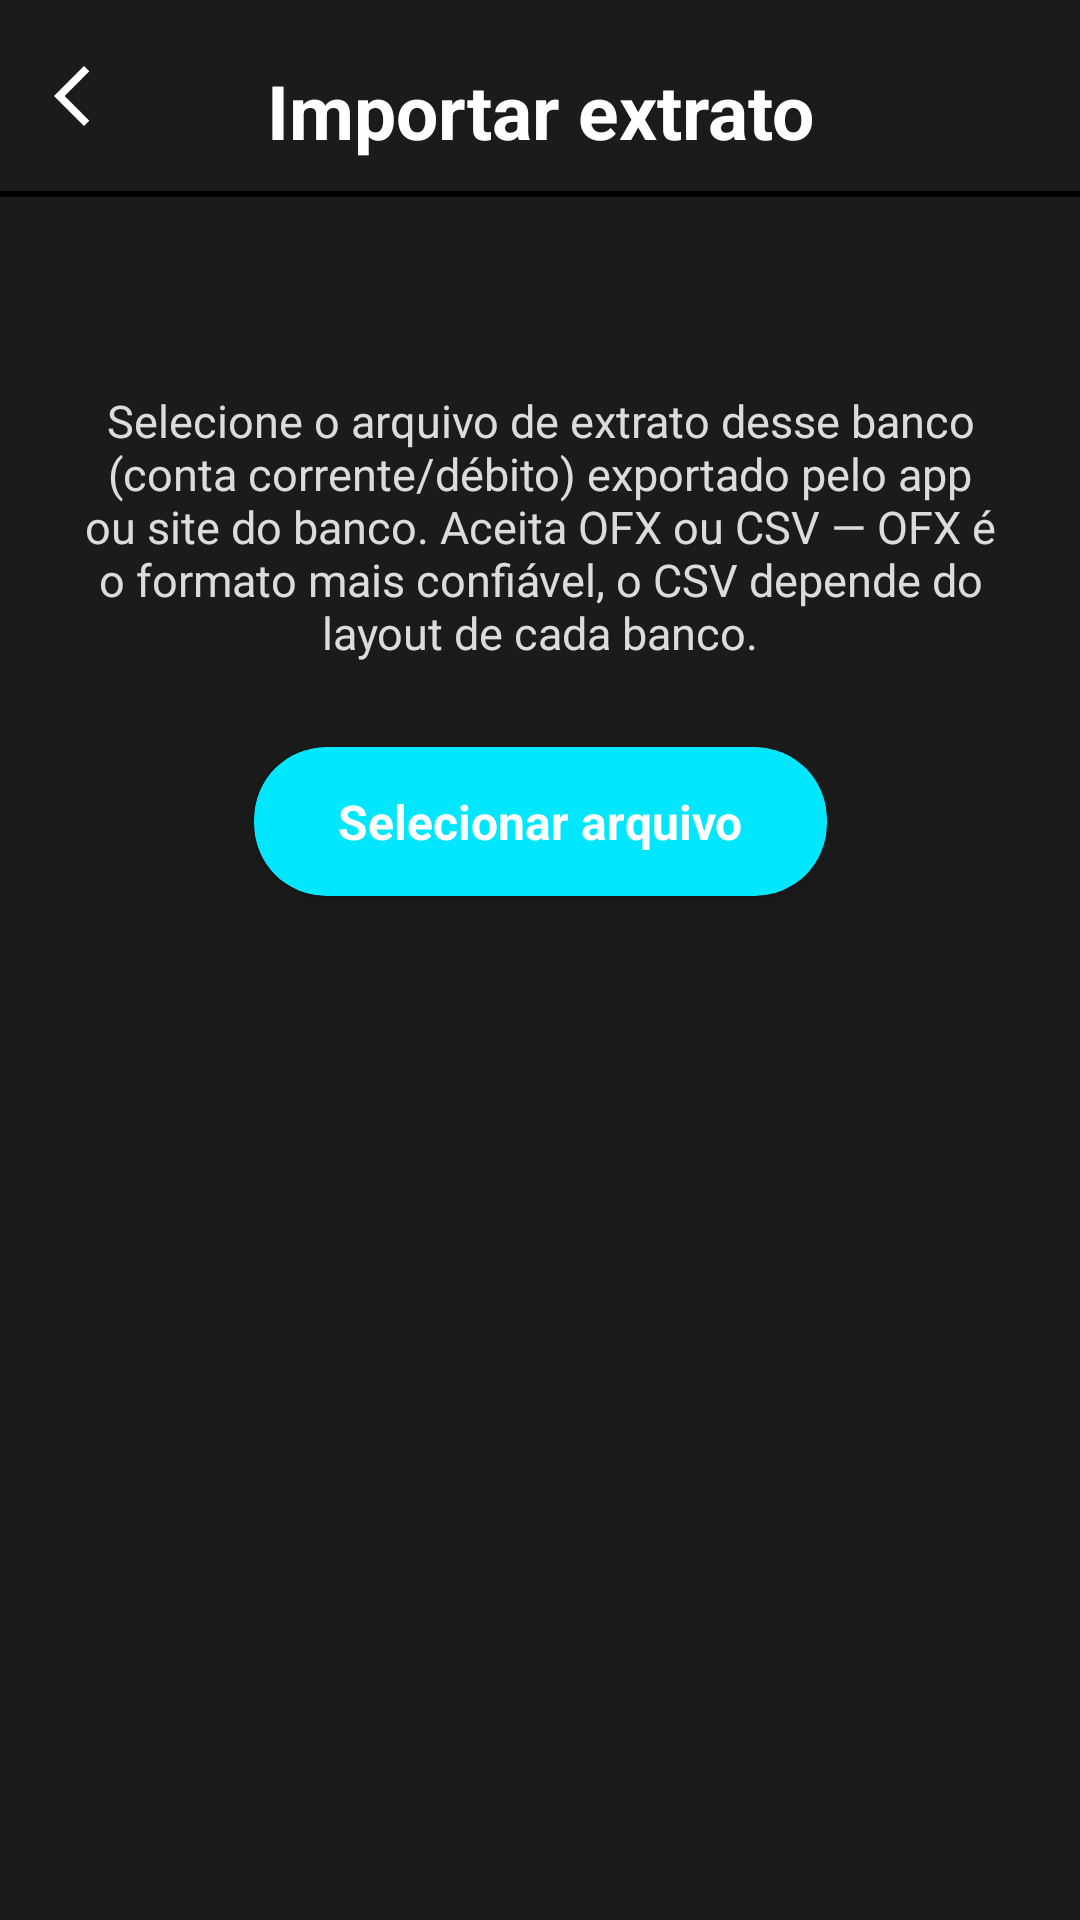

Screen size 1080w x 1920h. Icon name, then its center in pixels as (x,y):
to back: (71,96)
